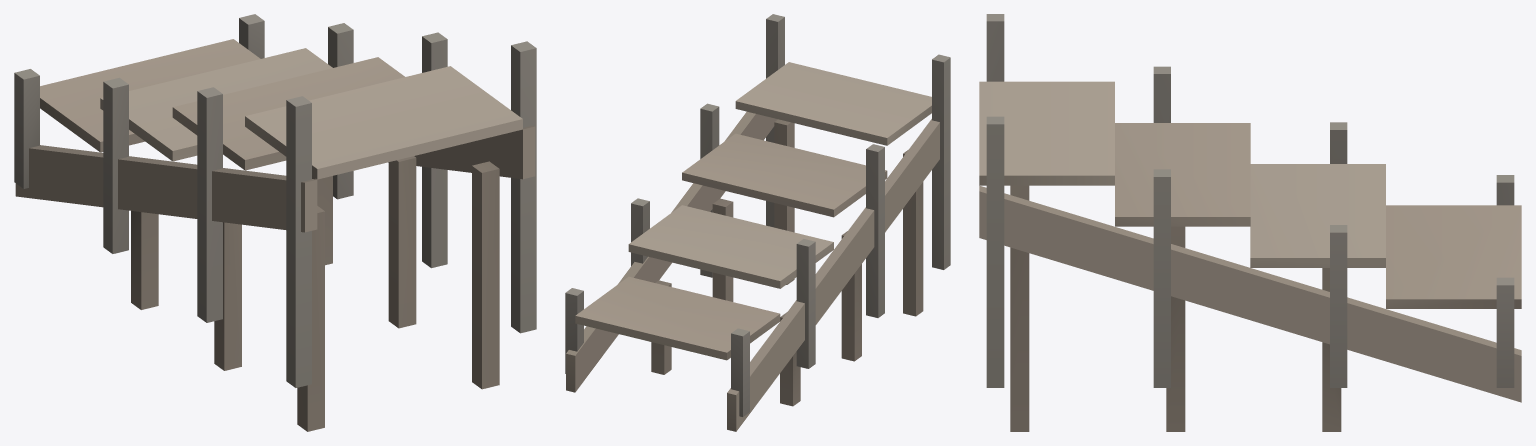
File: walkover.lod2.glb
The picture shows the model from 3 angles, left to right: view 1: azimuth 30°, elevation 25°; view 2: azimuth 150°, elevation 25°; view 3: azimuth 270°, elevation 25°; orthographic projection. The views are drawn at different scales.
Size of the model in its own units: 1.92 by 2.6 by 4.
